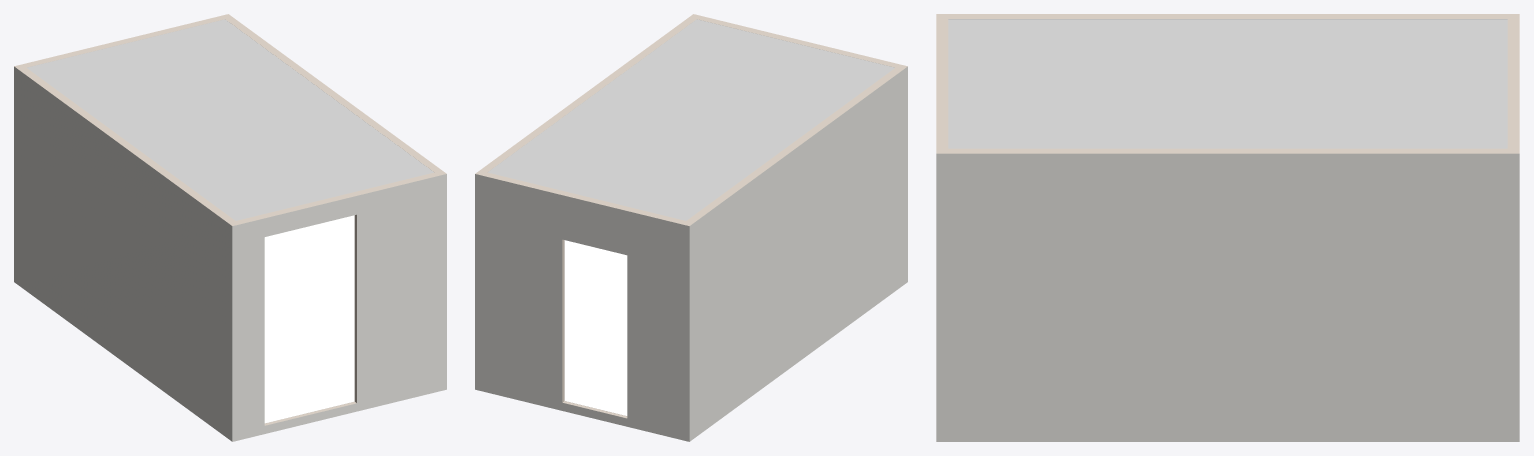
The model's file is polycam-bedroom.glb.
The picture shows the model from 3 angles, left to right: view 1: azimuth 30°, elevation 25°; view 2: azimuth 150°, elevation 25°; view 3: azimuth 270°, elevation 25°; orthographic projection. The views are drawn at different scales.
Visible parts, largest first — view 1: Wall_0, Ceiling_Bedroom, Wall_2, Door_0, Wall_1, Wall_3; view 2: Wall_0, Ceiling_Bedroom, Wall_3, Door_1, Wall_1, Wall_2; view 3: Wall_1, Ceiling_Bedroom, Wall_0, Wall_2, Wall_3.
Part boxes in pixels (box(x1,y1,x2,y2)): Wall_0: box(14, 66, 235, 441); Ceiling_Bedroom: box(27, 19, 433, 220); Wall_2: box(232, 172, 446, 441); Door_0: box(264, 215, 354, 423); Wall_1: box(225, 14, 446, 173); Wall_3: box(15, 14, 228, 67); Wall_0: box(686, 66, 907, 441); Ceiling_Bedroom: box(488, 19, 894, 220); Wall_3: box(475, 172, 689, 441); Door_1: box(564, 240, 627, 415); Wall_1: box(475, 14, 696, 173); Wall_2: box(693, 14, 906, 67); Wall_1: box(936, 148, 1519, 441); Ceiling_Bedroom: box(948, 19, 1507, 148); Wall_0: box(937, 14, 1518, 19); Wall_2: box(936, 14, 948, 153); Wall_3: box(1507, 14, 1519, 153).
Bounding box in the file's own units: 2.74 × 2.63 × 4.83.
Materials: 12 (1 with a texture image).
